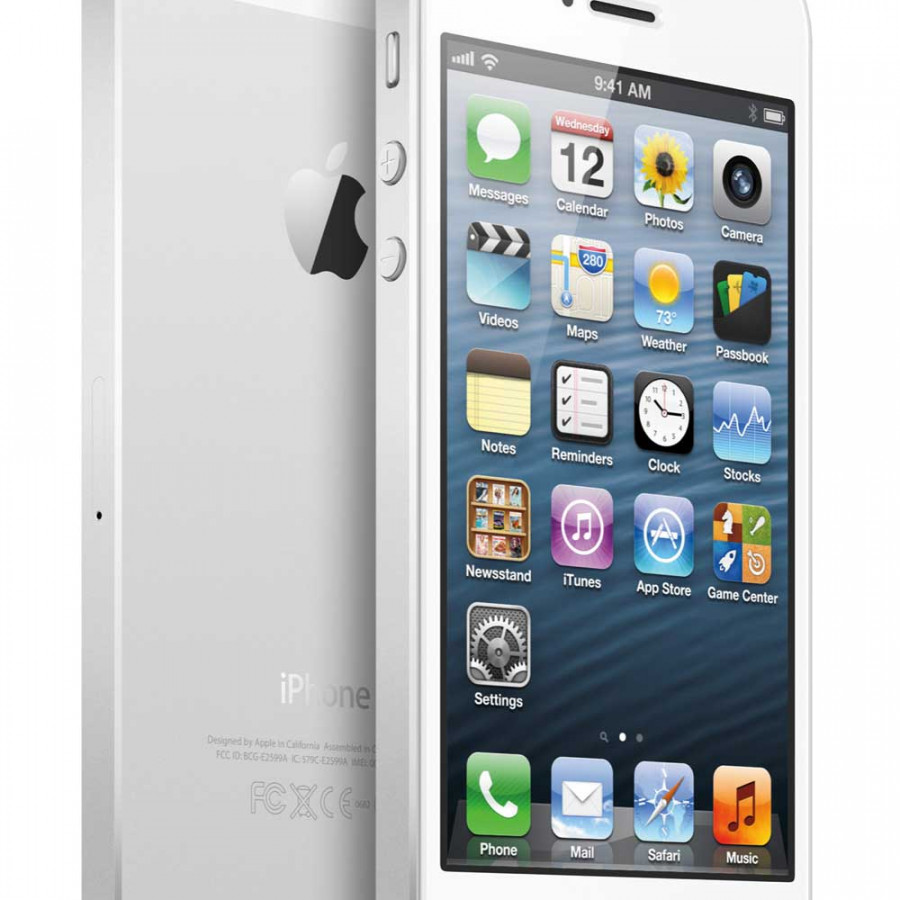Apple: (271, 122, 378, 288), (270, 653, 379, 724)
